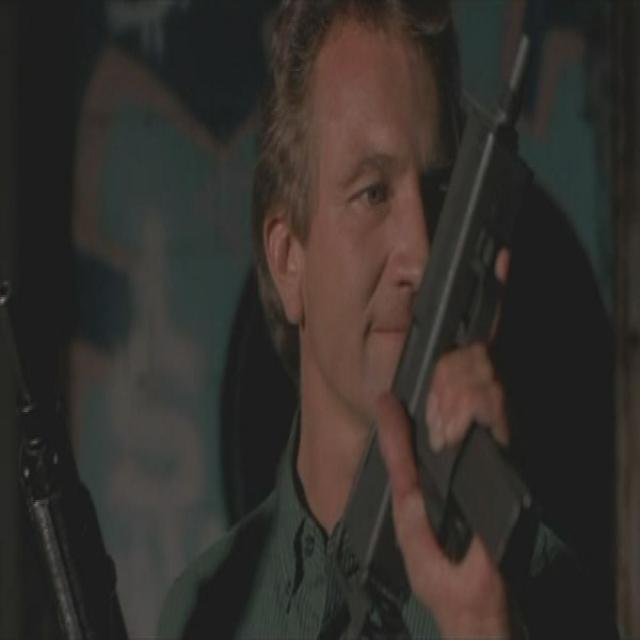rifle: (328, 24, 542, 640)
